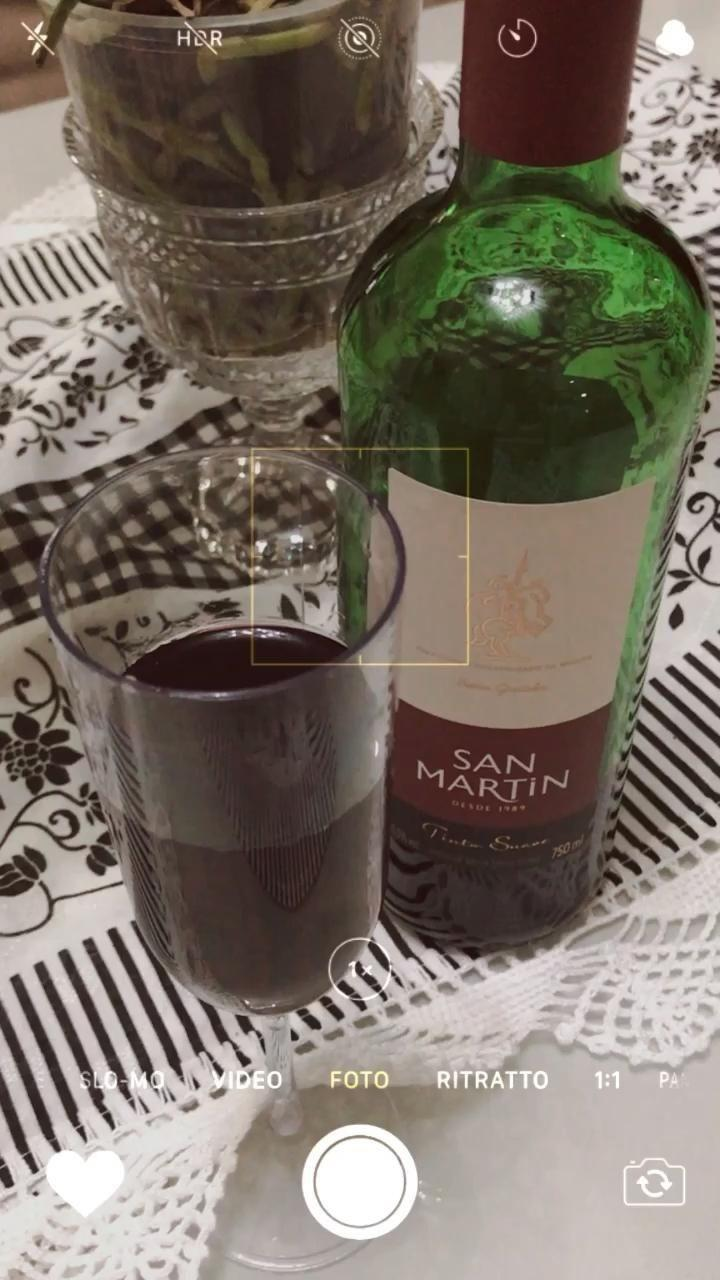bottle-glass: (327, 1, 716, 977)
glass-wine: (30, 441, 418, 1276), (42, 68, 467, 581)
